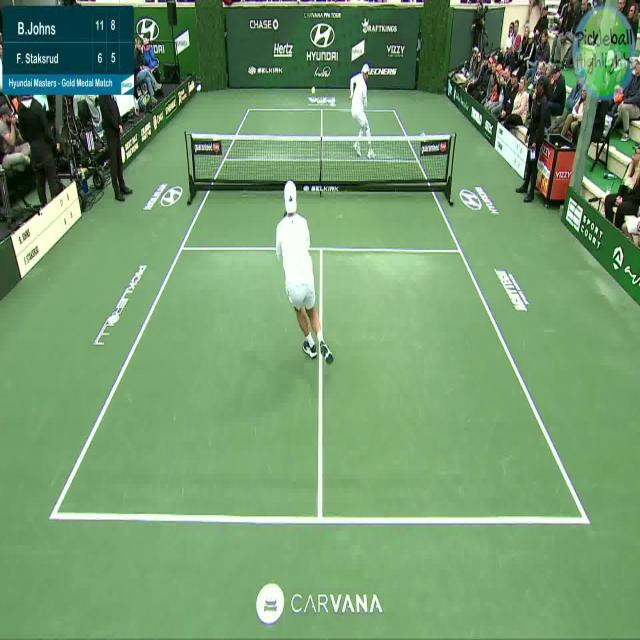ball: (310, 83, 316, 93)
